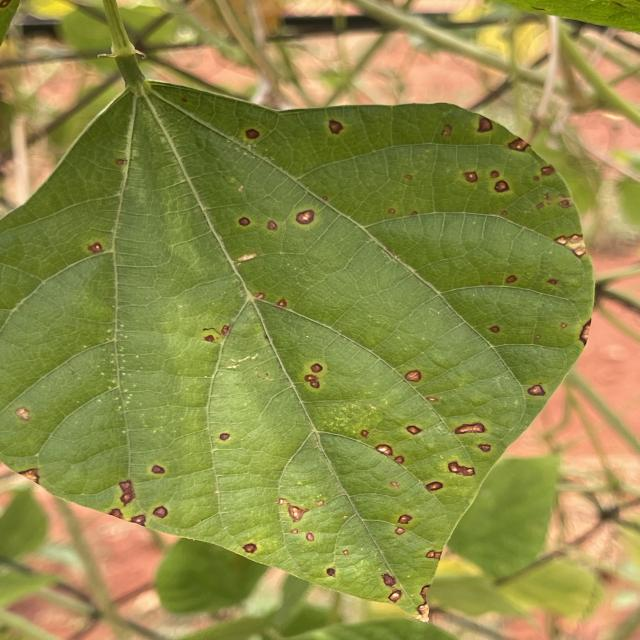Dolicos bean_cercospora leaf spot: (0, 74, 606, 616)
